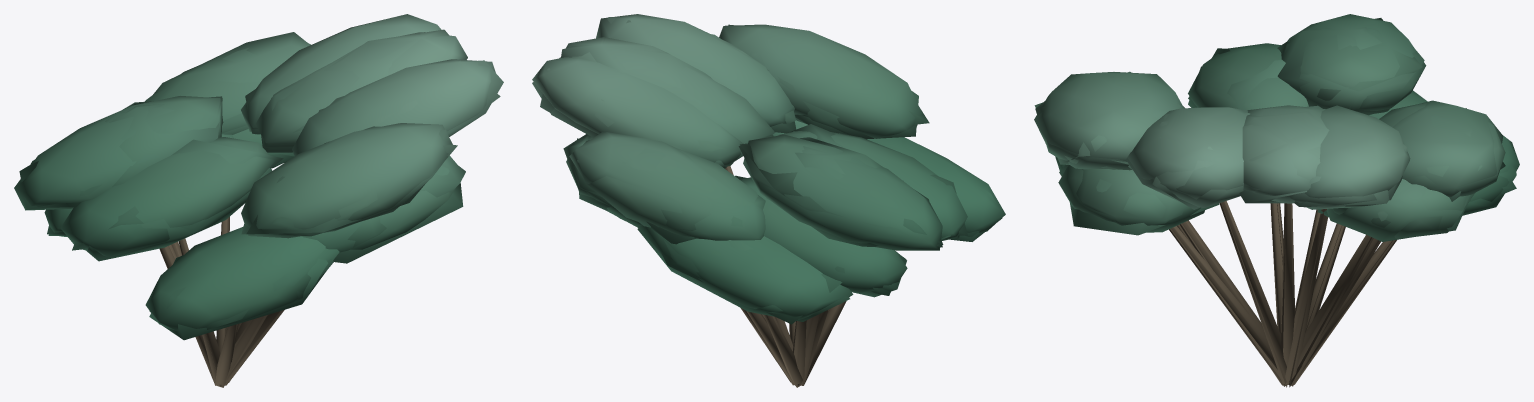
File: CoastalShrub.baseline.glb
3 renders of one model, left to right at view 1: azimuth 30°, elevation 25°; view 2: azimuth 150°, elevation 25°; view 3: azimuth 270°, elevation 25°, orthographic. The views are drawn at different scales.
Parts seen in each view (by area): view 1: CoastalShrub_L0, CoastalShrub_L1, CoastalShrub_L2; view 2: CoastalShrub_L0, CoastalShrub_L1, CoastalShrub_L2; view 3: CoastalShrub_L0, CoastalShrub_L1, CoastalShrub_L2.
Boxes of the visible parts, bbox=[...] form: CoastalShrub_L0: bbox=[14, 14, 495, 387]; CoastalShrub_L1: bbox=[23, 17, 503, 382]; CoastalShrub_L2: bbox=[19, 33, 500, 372]; CoastalShrub_L0: bbox=[532, 14, 1005, 387]; CoastalShrub_L1: bbox=[532, 17, 996, 382]; CoastalShrub_L2: bbox=[540, 20, 1002, 324]; CoastalShrub_L0: bbox=[1034, 14, 1519, 386]; CoastalShrub_L1: bbox=[1035, 27, 1516, 387]; CoastalShrub_L2: bbox=[1034, 18, 1516, 282].
Bounding box in the file's own units: 1.3 × 0.9 × 1.1.
